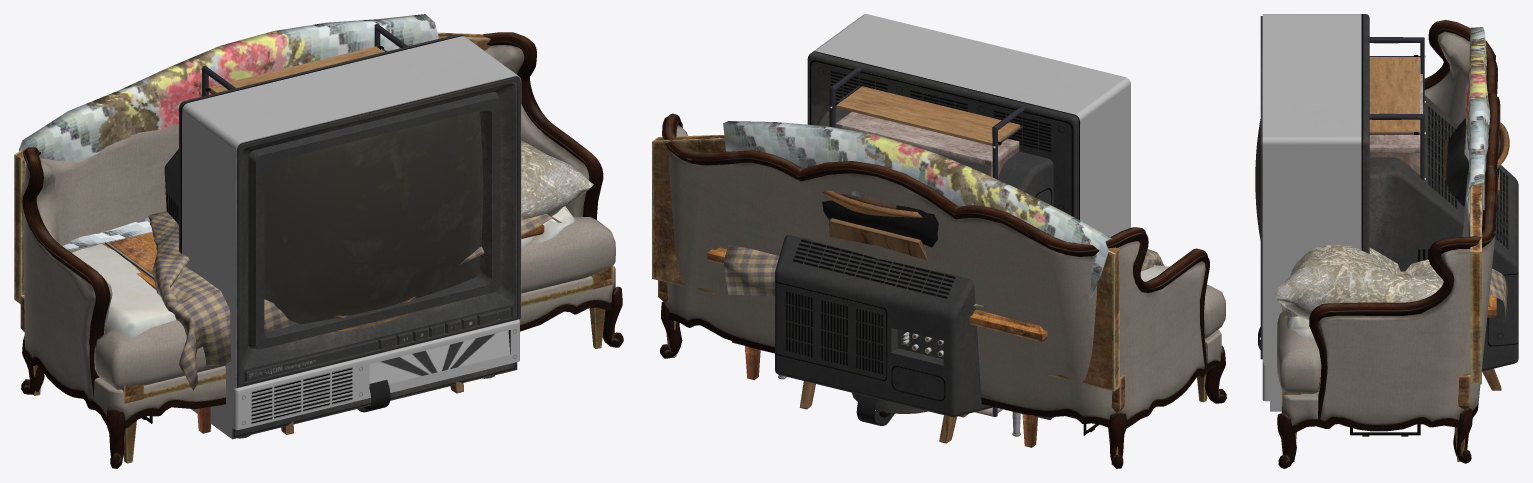
Rendered from modern-loft-interior.glb.
3 views of the same model, side by side, from view 1: azimuth 30°, elevation 25°; view 2: azimuth 150°, elevation 25°; view 3: azimuth 270°, elevation 25° (orthographic). The views are drawn at different scales.
Visible parts, largest first — view 1: LIB_loft_tv, LIB_loft_sofa, LIB_loft_bed, LIB_loft_dining, LIB_loft_counter; view 2: LIB_loft_sofa, LIB_loft_tv, LIB_loft_bed, LIB_loft_counter, LIB_loft_dining, LIB_loft_armchair, LIB_loft_shelf, LIB_loft_lounge, LIB_loft_coffee; view 3: LIB_loft_tv, LIB_loft_sofa, LIB_loft_bed, LIB_loft_counter, LIB_loft_armchair, LIB_loft_shelf, LIB_loft_dining, LIB_loft_lounge, LIB_loft_media.
Part boxes in pixels (x1,y1,x2,y2): LIB_loft_tv: (164, 34, 521, 439); LIB_loft_sofa: (21, 32, 623, 468); LIB_loft_bed: (14, 14, 612, 463); LIB_loft_dining: (102, 211, 561, 433); LIB_loft_counter: (202, 24, 407, 96); LIB_loft_sofa: (660, 113, 1226, 468); LIB_loft_tv: (775, 14, 1130, 417); LIB_loft_bed: (652, 121, 1207, 465); LIB_loft_counter: (829, 65, 1024, 416); LIB_loft_dining: (707, 245, 1164, 447); LIB_loft_armchair: (800, 200, 956, 443); LIB_loft_shelf: (835, 111, 1019, 416); LIB_loft_lounge: (823, 190, 1006, 410); LIB_loft_coffee: (856, 394, 894, 425); LIB_loft_tv: (1255, 14, 1518, 411); LIB_loft_sofa: (1277, 20, 1500, 468); LIB_loft_bed: (1275, 27, 1490, 461); LIB_loft_counter: (1367, 37, 1425, 180); LIB_loft_armchair: (1446, 118, 1501, 390); LIB_loft_shelf: (1369, 74, 1422, 174); LIB_loft_dining: (1280, 268, 1508, 327); LIB_loft_lounge: (1497, 122, 1509, 168); LIB_loft_media: (1350, 424, 1420, 436).
Size of the model in its own units: 2.1 by 1.2 by 1.02.
32 materials, 31 textured.
